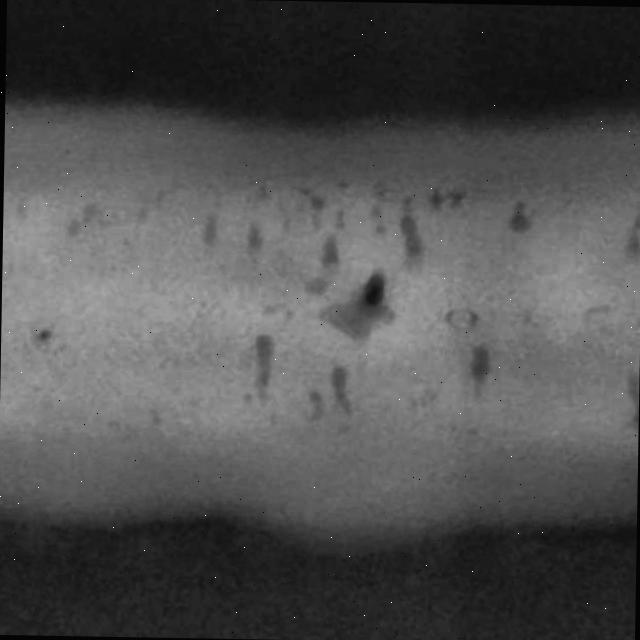Pore: (46, 158, 554, 266), (454, 320, 514, 416), (291, 360, 362, 434), (226, 323, 277, 412), (15, 304, 57, 367), (609, 370, 639, 440), (615, 216, 640, 272)
Slag: (353, 265, 392, 324)
